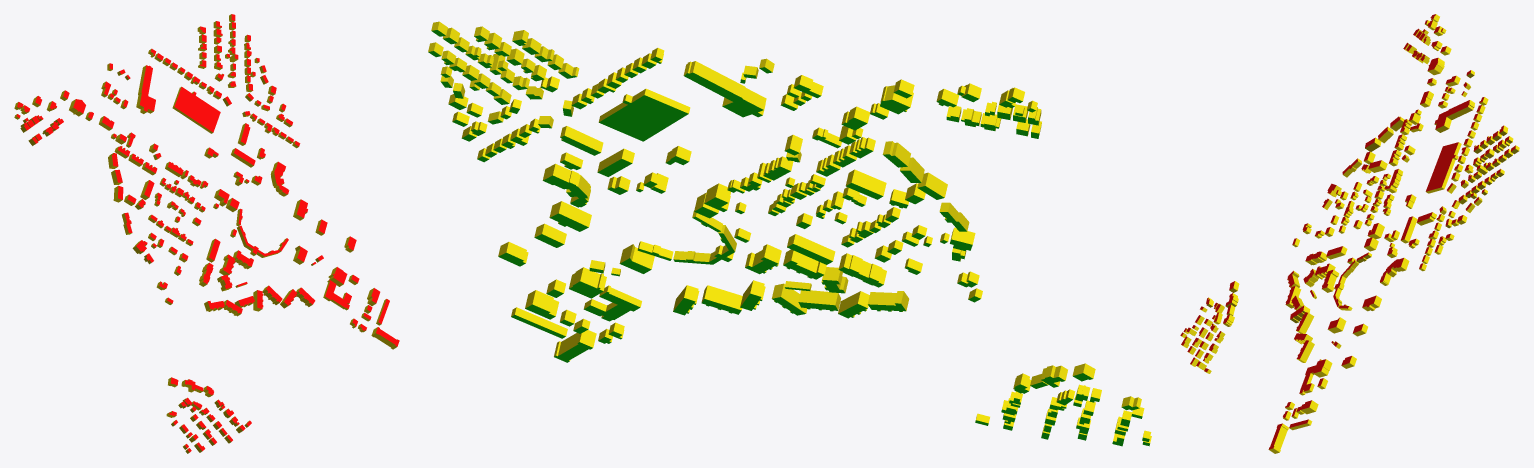
The picture shows the model from 3 angles, left to right: view 1: azimuth 30°, elevation 25°; view 2: azimuth 150°, elevation 25°; view 3: azimuth 270°, elevation 25°; orthographic projection. The views are drawn at different scales.
Visible parts, largest first — view 1: mesh; view 2: mesh; view 3: mesh.
Part boxes in pixels (box(x1,y1,x2,y2)): mesh: box(14, 14, 399, 453); mesh: box(428, 21, 1151, 446); mesh: box(1180, 14, 1519, 453).
Size of the model in its own units: 915 by 776 by 790.
